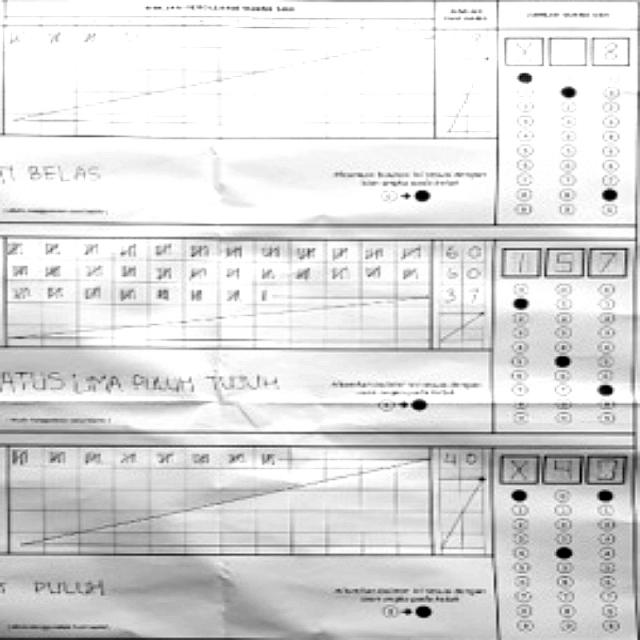Suara: (499, 29, 632, 70), (496, 449, 626, 489), (494, 240, 633, 277)
